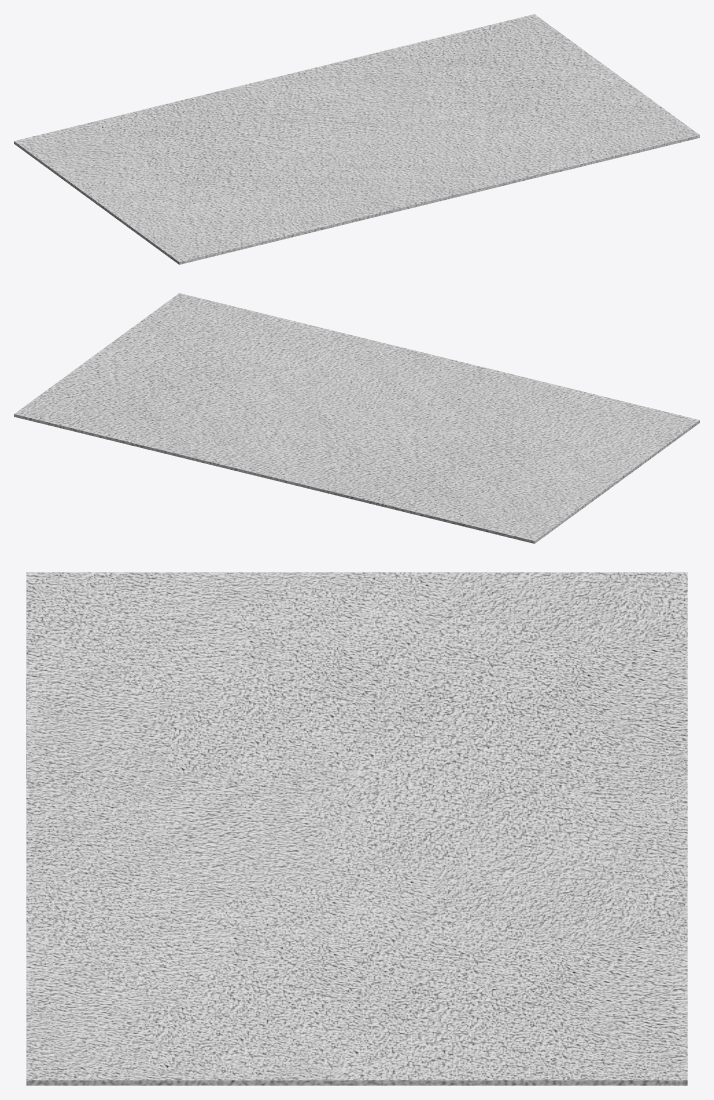
Rendered from Khanbong.fbx.
3 renders of one model, top to bottom at view 1: azimuth 30°, elevation 25°; view 2: azimuth 150°, elevation 25°; view 3: azimuth 270°, elevation 25°, orthographic. The views are drawn at different scales.
Parts seen in each view (by area): view 1: Khanbong; view 2: Khanbong; view 3: Khanbong.
Part boxes in pixels (<box>): Khanbong: <box>14,14,699,264</box>; Khanbong: <box>14,293,699,543</box>; Khanbong: <box>26,572,687,1085</box>.
Bounding box in the file's own units: 77.4 × 0.387 × 42.57.
1 material, 1 textured.
